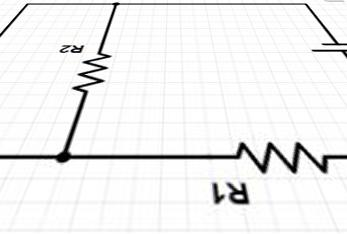resistor: (224, 134, 333, 177), (73, 46, 123, 101)
